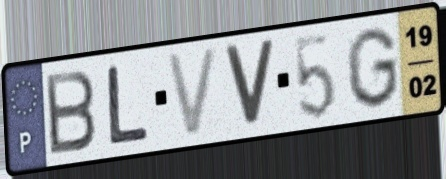5: (292, 29, 340, 120)
B: (42, 66, 99, 158)
G: (344, 25, 402, 111)
L: (105, 62, 151, 148)
V: (163, 43, 222, 141), (220, 38, 278, 130)
